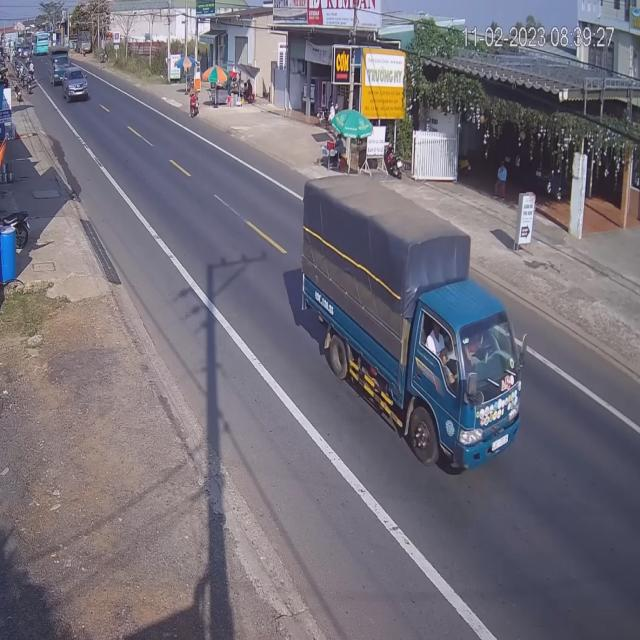car: (64, 66, 89, 103)
motorbike: (187, 82, 199, 120)
truck: (301, 175, 525, 474), (52, 51, 70, 86)
